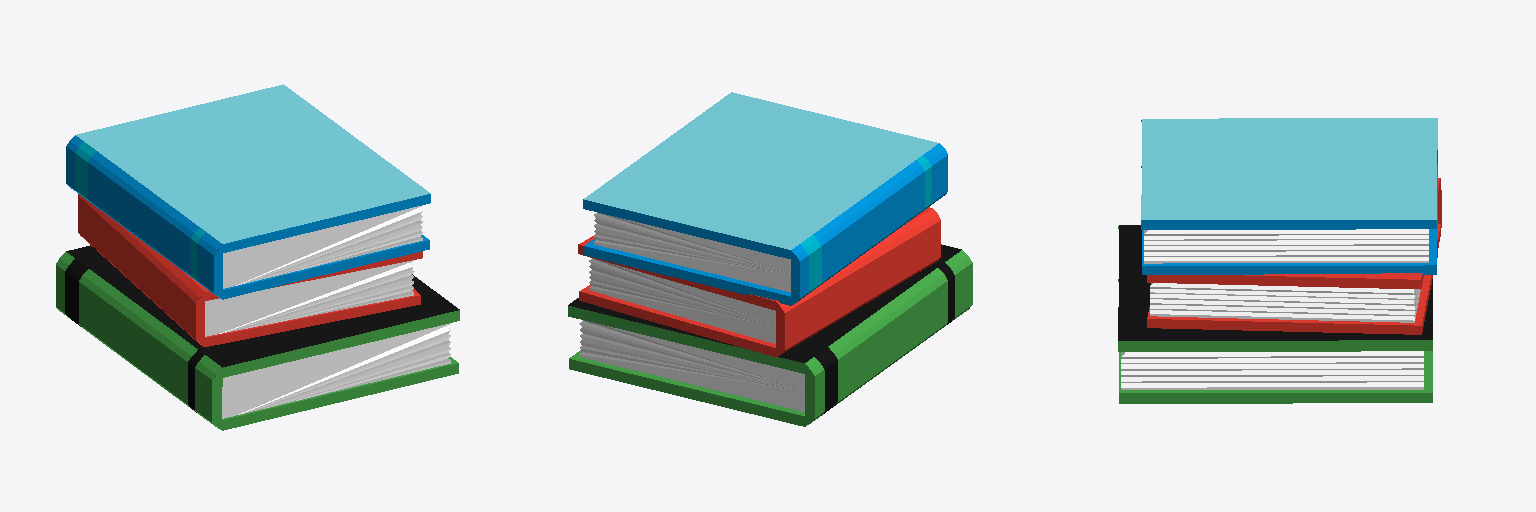
The model's file is books-flat.obj.
3 views of the same model, side by side, from view 1: azimuth 30°, elevation 25°; view 2: azimuth 150°, elevation 25°; view 3: azimuth 270°, elevation 25° (orthographic).
Parts seen in each view (by area): view 1: model; view 2: model; view 3: model.
Part boxes in pixels (x1,y1,x2,y2): model: (56, 84, 459, 430); model: (568, 92, 972, 426); model: (1118, 118, 1441, 403).
Bounding box in the file's own units: 0.6638 × 0.451 × 0.7495.